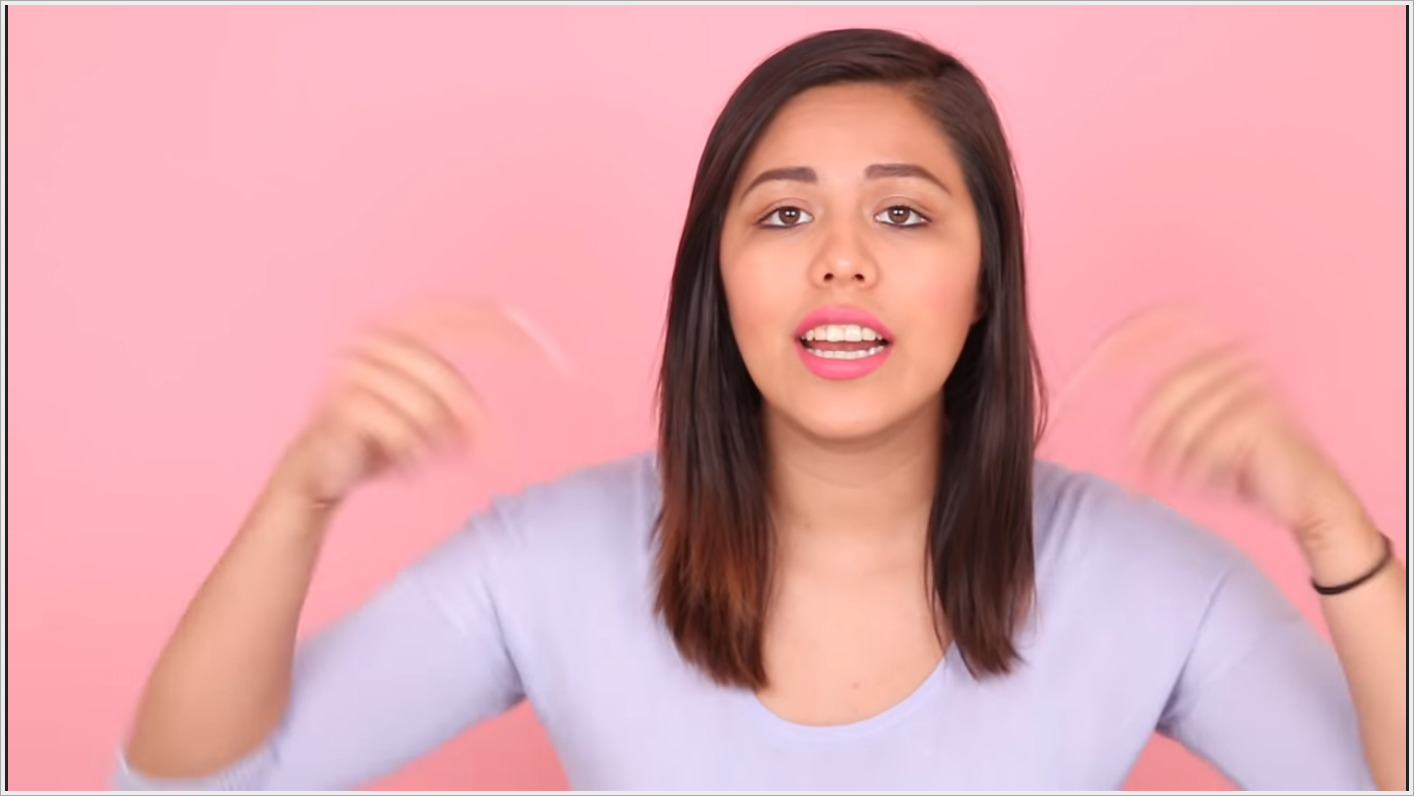hand: (1060, 291, 1354, 525), (281, 286, 568, 503)
